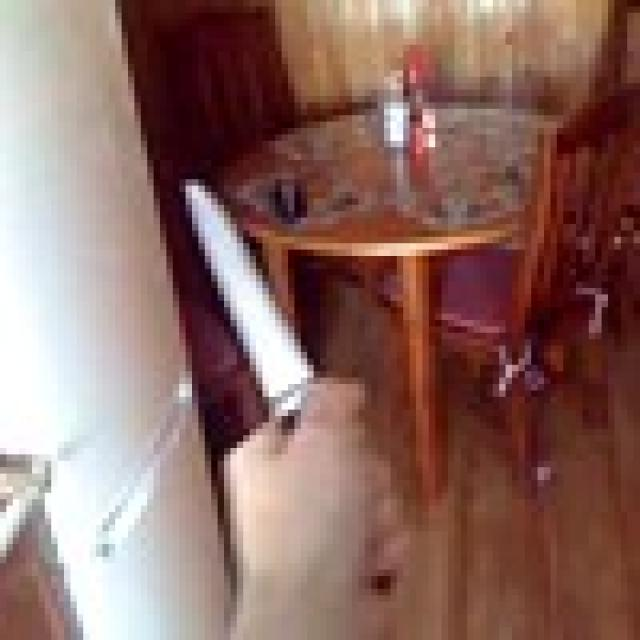Knife: (180, 179, 390, 602)
